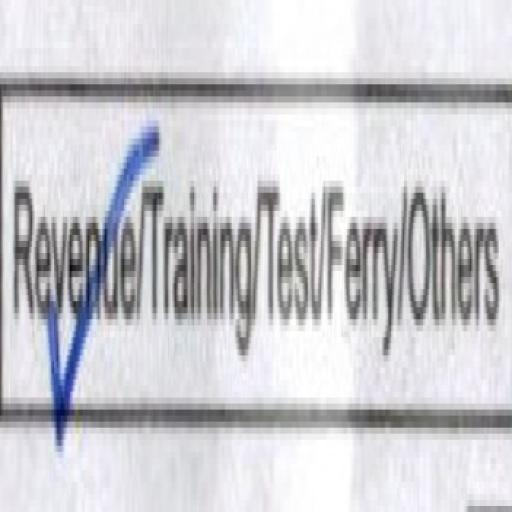check: (1, 20, 145, 512)
